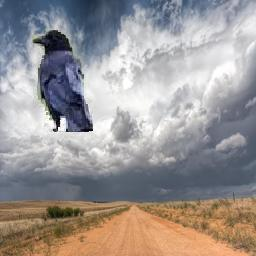Crow: (31, 28, 94, 132)
